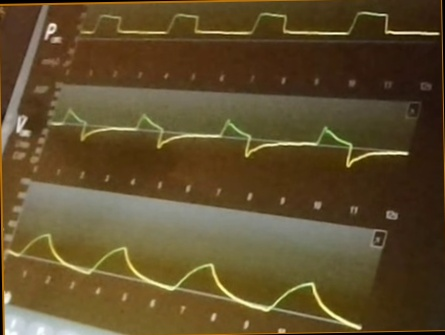Normal Flow: (52, 99, 405, 171)
Normal Volume: (7, 230, 360, 329)
